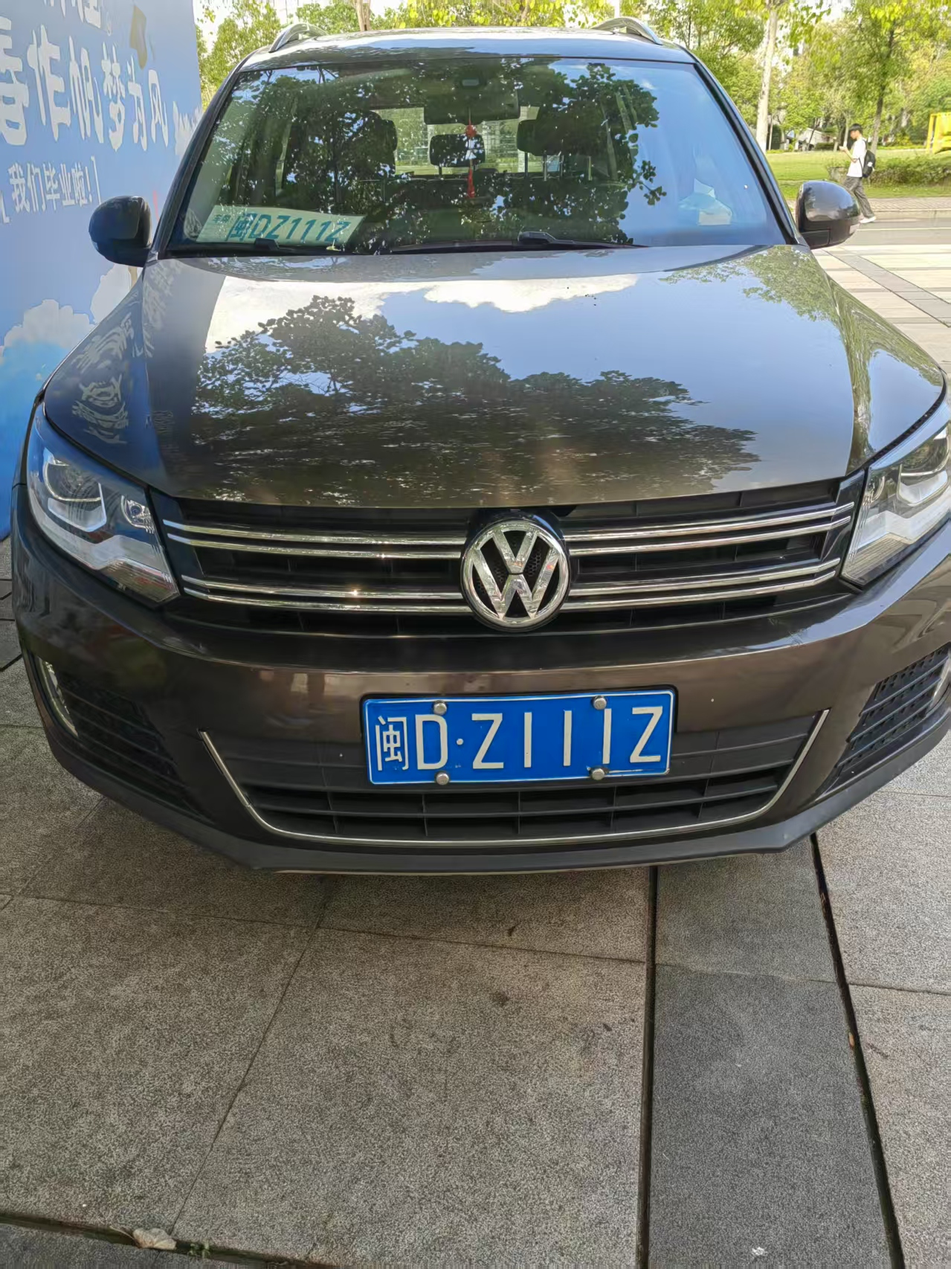plate: (361, 698, 671, 776)
